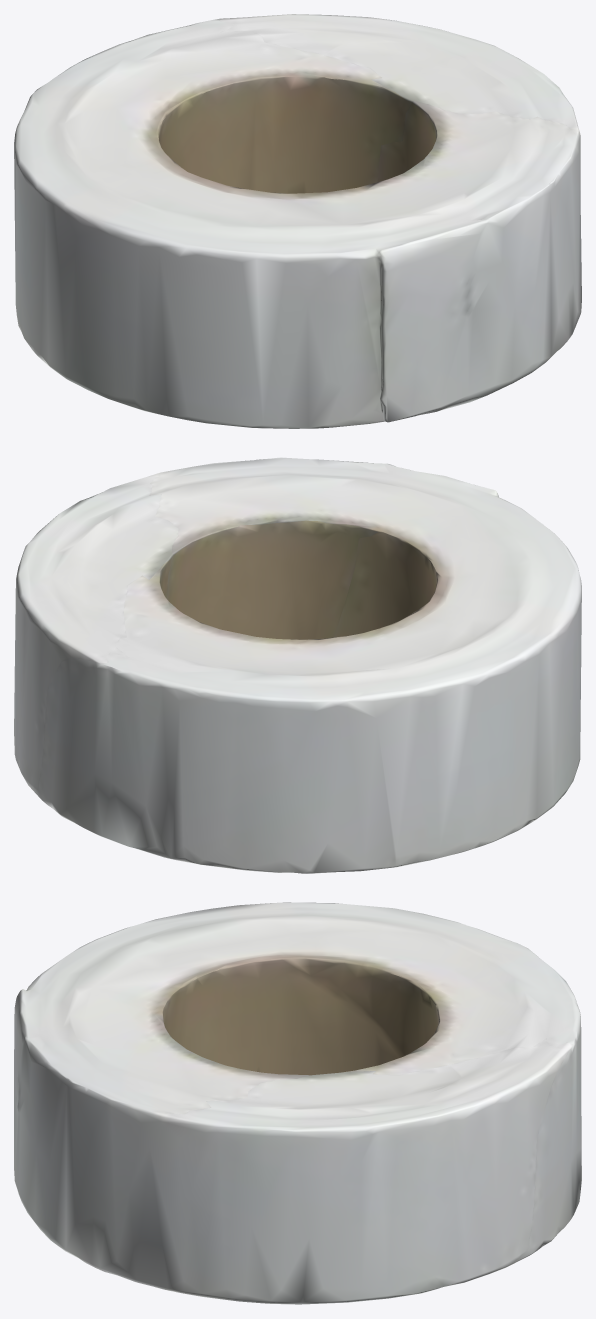
The model's file is Cole_Hardware_Antislip_Surfacing_White_2_x_60-high.glb.
3 renders of one model, top to bottom at view 1: azimuth 30°, elevation 25°; view 2: azimuth 150°, elevation 25°; view 3: azimuth 270°, elevation 25°, orthographic.
Parts seen in each view (by area): view 1: Cole_Hardware_Antislip_Surfacing_White_2_x_60; view 2: Cole_Hardware_Antislip_Surfacing_White_2_x_60; view 3: Cole_Hardware_Antislip_Surfacing_White_2_x_60.
Boxes of the visible parts, left/top/right/bottom form: Cole_Hardware_Antislip_Surfacing_White_2_x_60: left=14, top=14, right=581, bottom=428; Cole_Hardware_Antislip_Surfacing_White_2_x_60: left=14, top=457, right=581, bottom=873; Cole_Hardware_Antislip_Surfacing_White_2_x_60: left=14, top=902, right=581, bottom=1304.
Size of the model in its own units: 0.1569 by 0.0559 by 0.1578.
1 material, 1 textured.
